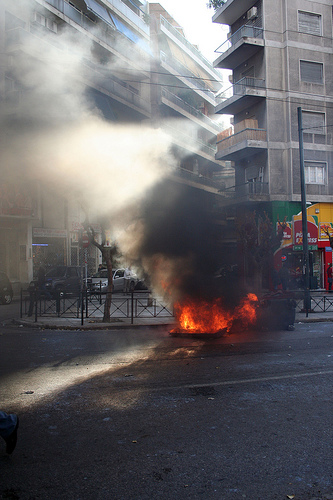fire: (156, 261, 264, 346)
